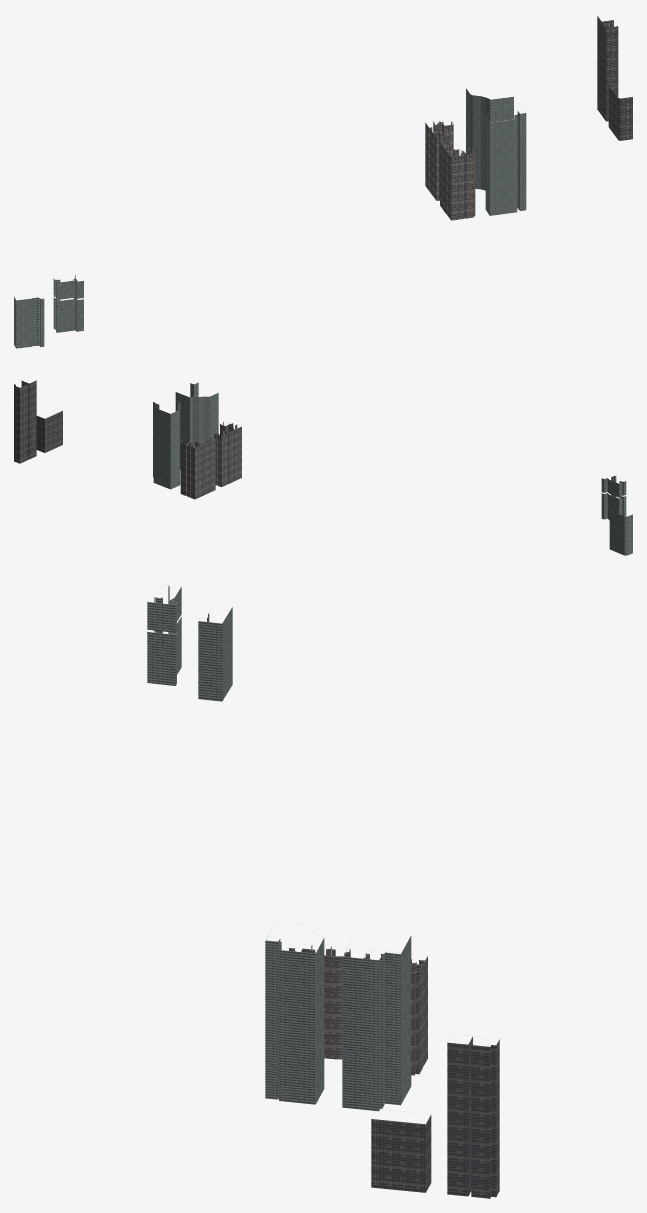
3 renders of one model, top to bottom at view 1: azimuth 30°, elevation 25°; view 2: azimuth 150°, elevation 25°; view 3: azimuth 270°, elevation 25°, orthographic. The views are drawn at different scales.
Visible parts, largest first — view 1: Facade006, Facade018A, Facade019A; view 2: Facade006, Facade018A, Facade019A; view 3: Facade006, Facade019A, Facade018A.
Part boxes in pixels (<box>): Facade006: <box>14,88,526,348</box>; Facade018A: <box>425,121,475,220</box>; Facade019A: <box>597,16,632,140</box>; Facade006: <box>153,382,632,555</box>; Facade018A: <box>180,422,241,499</box>; Facade019A: <box>14,380,62,463</box>; Facade006: <box>147,585,411,1111</box>; Facade019A: <box>371,1037,499,1198</box>; Facade018A: <box>289,945,427,1075</box>.
Bounding box in the file's own units: 1578 × 237 × 438.
4 materials, 3 textured.
